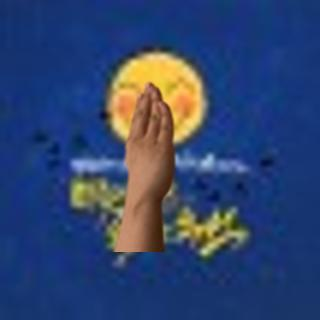RIGHT: (116, 79, 178, 208)
